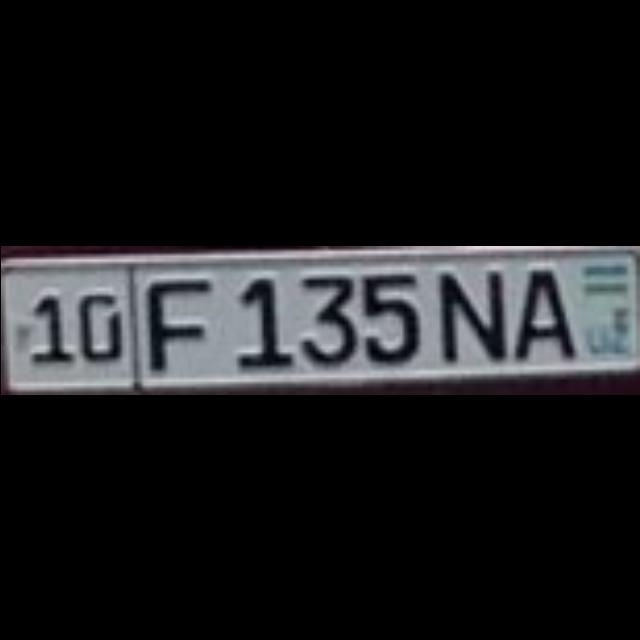0: (71, 287, 117, 353)
1: (229, 270, 287, 362), (21, 286, 67, 358)
3: (295, 266, 349, 356)
5: (357, 266, 411, 356)
A: (507, 262, 569, 352)
F: (136, 270, 208, 366)
N: (437, 266, 503, 356)
